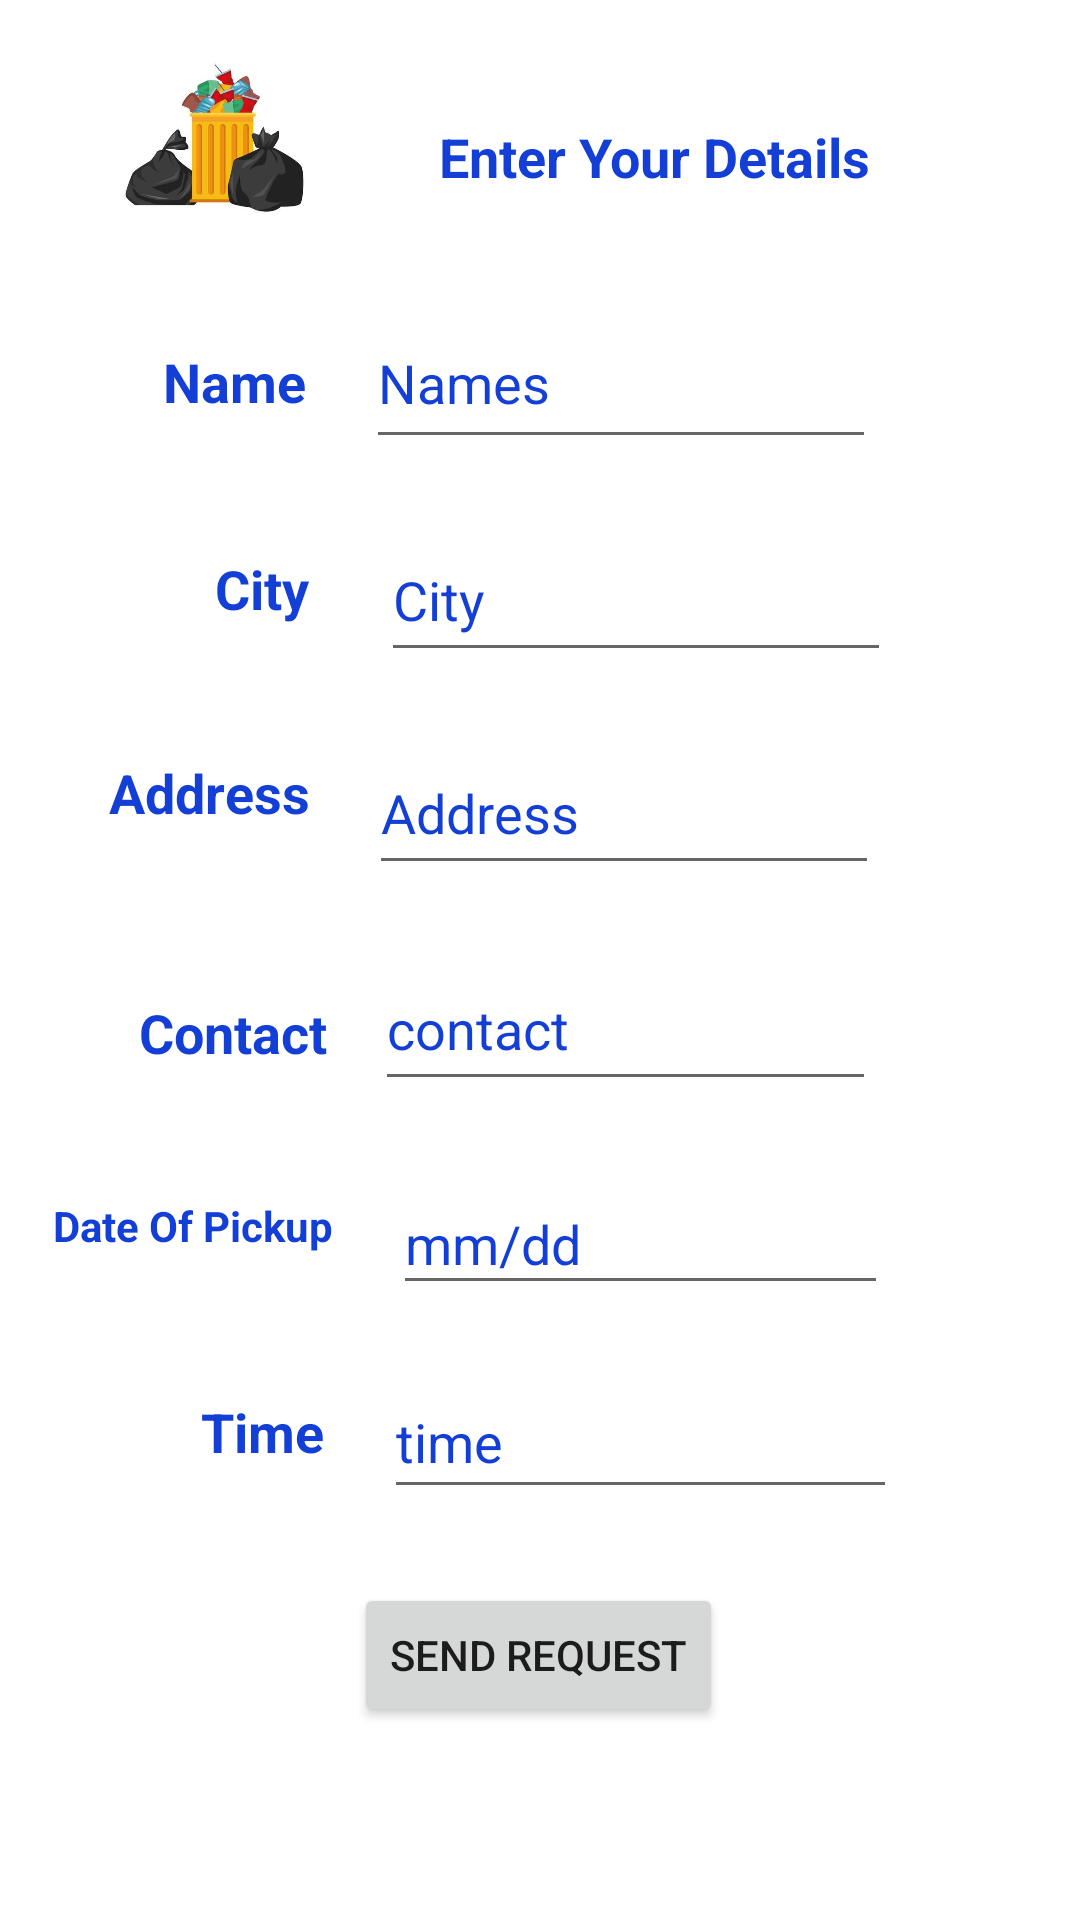

Named icons in this screenshot (1080px x 1920px) and their centers, (x=x, y=y):
trash: (x=214, y=138)
